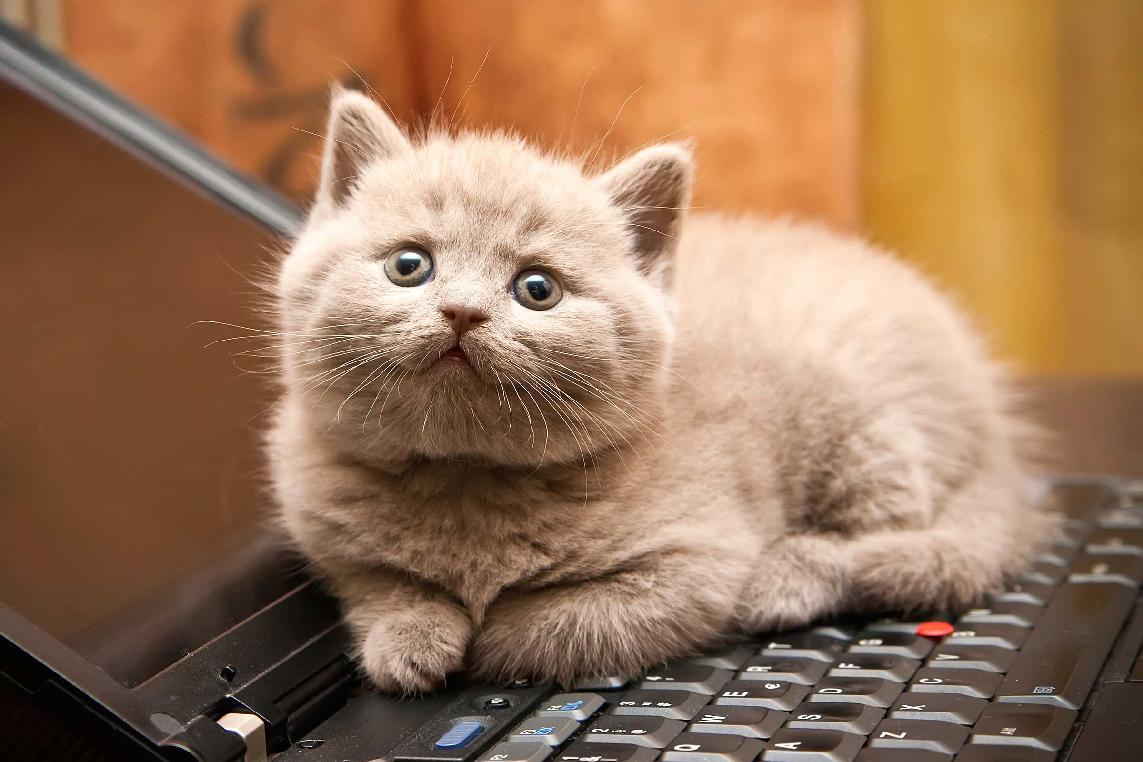Cat: (182, 75, 1079, 694)
